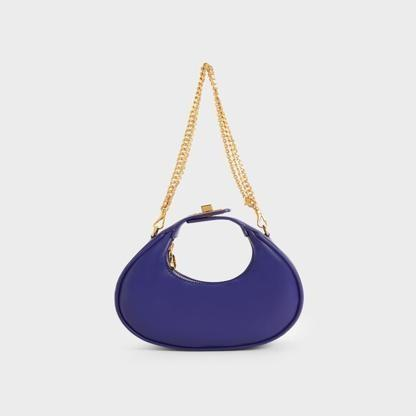not trash: (112, 64, 302, 354)
